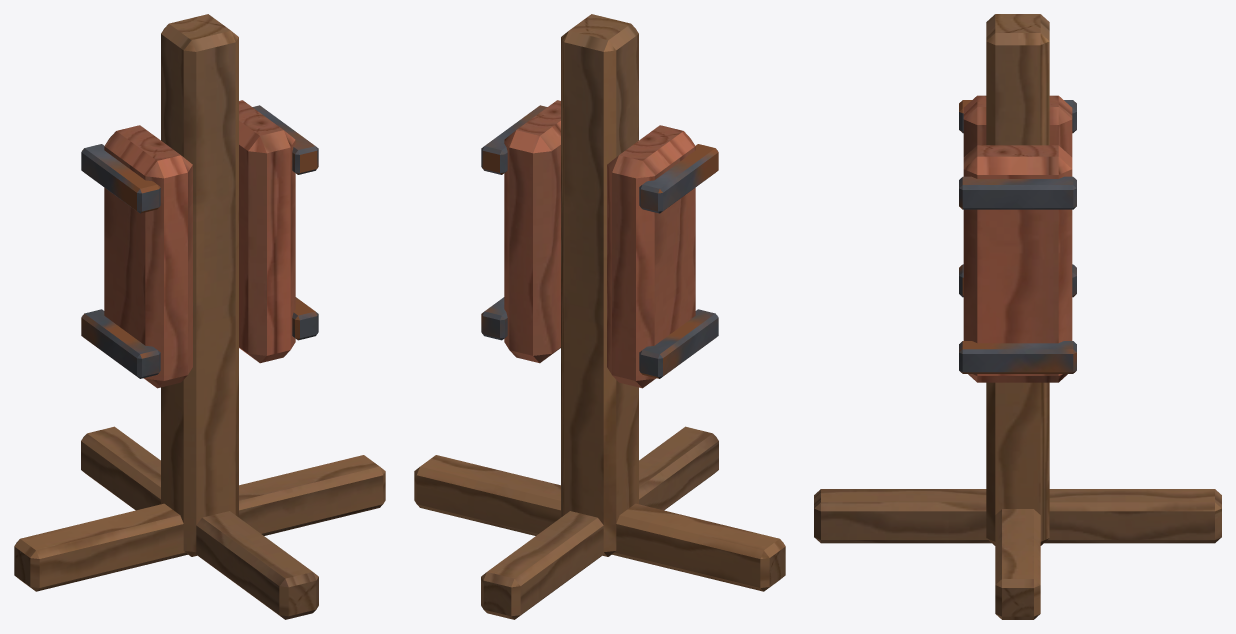
File: kasinma_fircasi.glb
3 views of the same model, side by side, from view 1: azimuth 30°, elevation 25°; view 2: azimuth 150°, elevation 25°; view 3: azimuth 270°, elevation 25° (orthographic).
Parts seen in each view (by area): view 1: kasinma_fircasi; view 2: kasinma_fircasi; view 3: kasinma_fircasi.
Part boxes in pixels (x1,y1,x2,y2): kasinma_fircasi: [14, 14, 385, 619]; kasinma_fircasi: [414, 14, 785, 619]; kasinma_fircasi: [814, 14, 1221, 619].
Size of the model in its own units: 0.9 by 1.25 by 0.9.
Materials: 1 (1 with a texture image).
